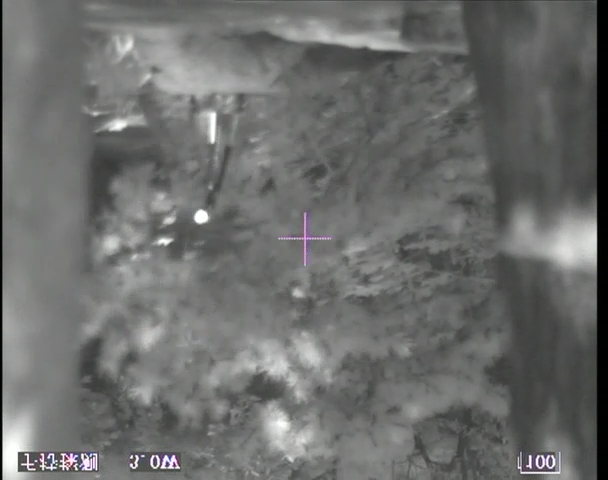my: (192, 207, 209, 226)
